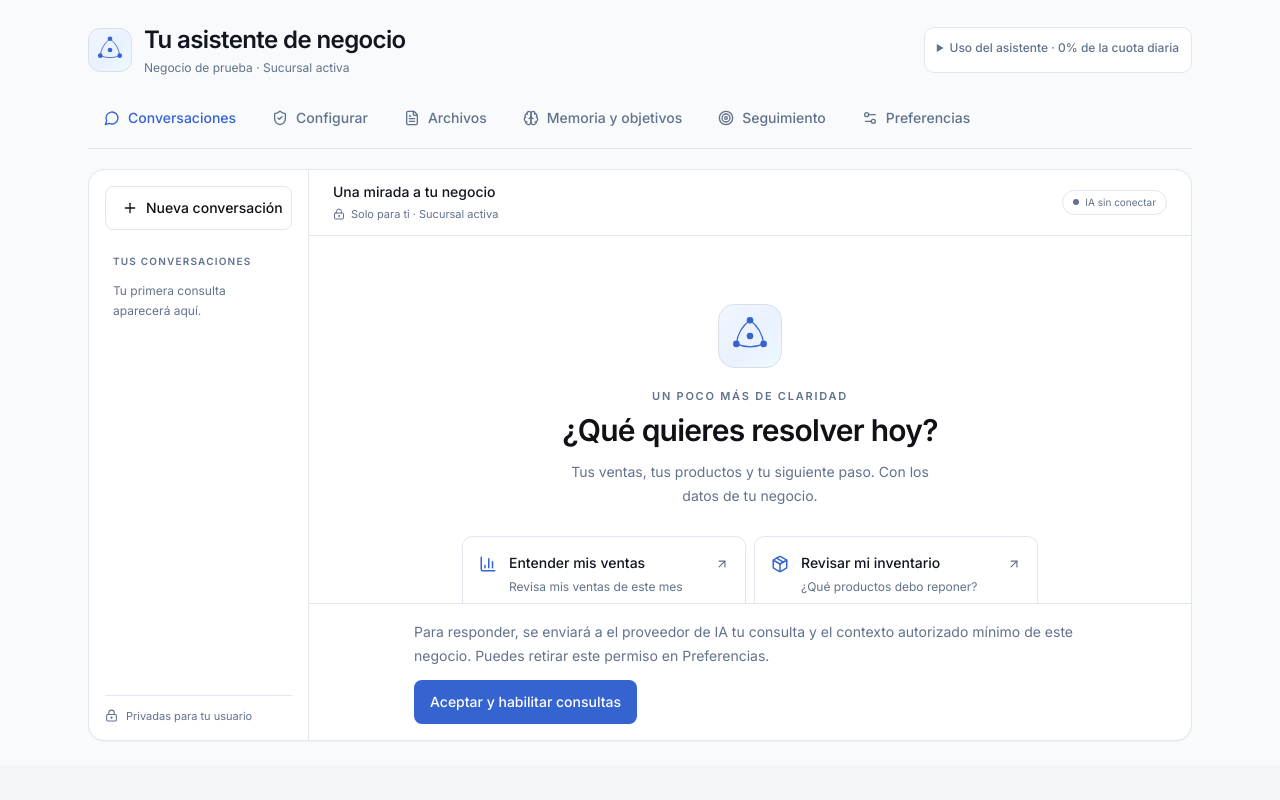
it: tenant assistant review and privacy › refreshes real follow-up when opening its section
What coordinates should you click on to do the following:
click the button "Seguimiento"
I would click on:
 (772, 118)
Its box is x1=702 y1=96 x2=842 y2=140.
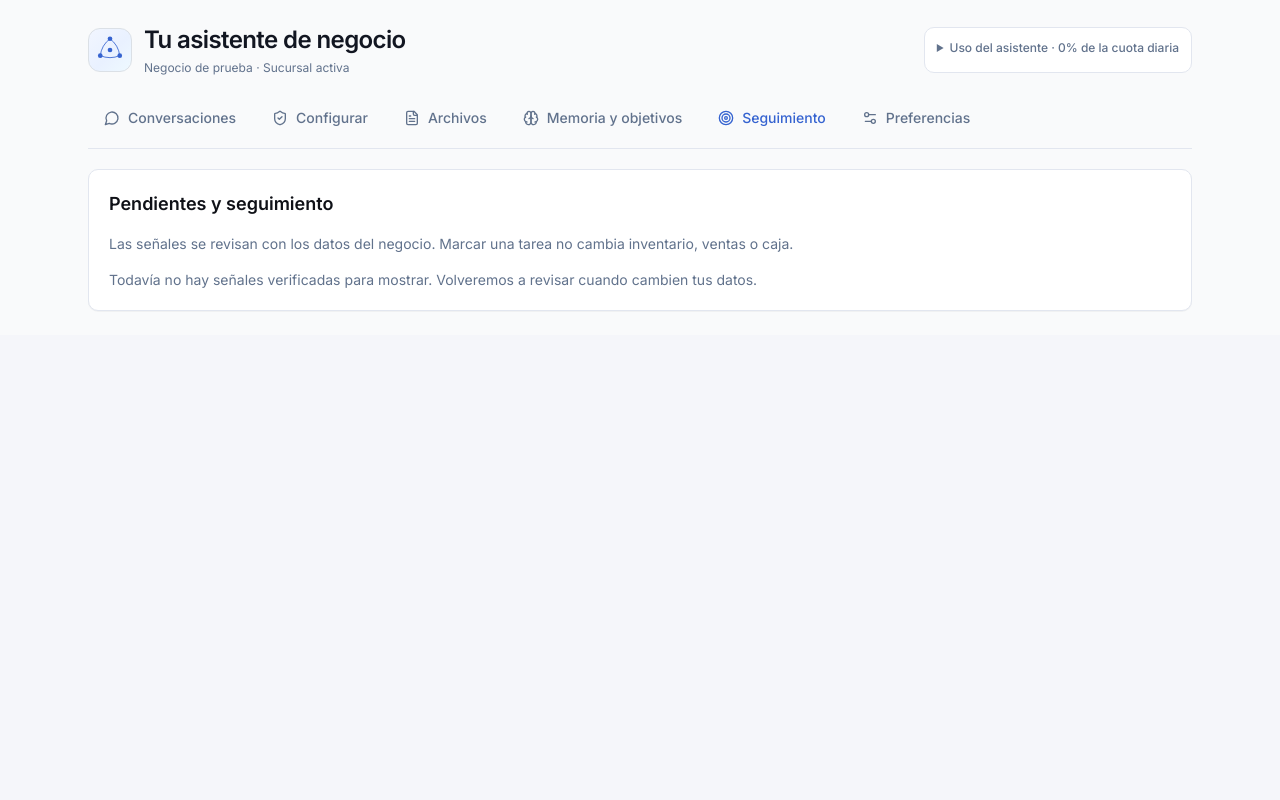
Expected: the heading "Pendientes y seguimiento" is shown, x1=109 y1=193 x2=333 y2=214
